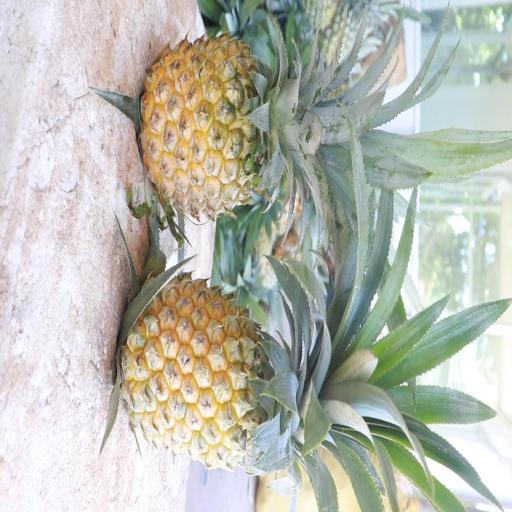Pineapple - v8 v1: (118, 266, 372, 473), (139, 29, 349, 225)
